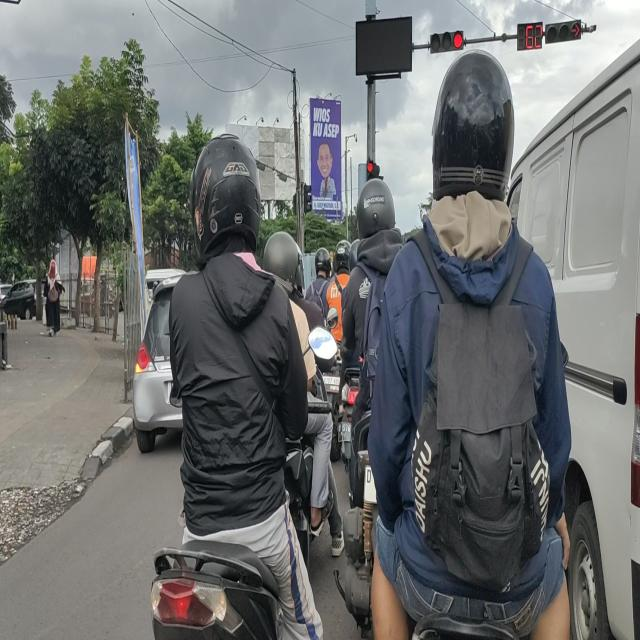helmet: (435, 50, 512, 193), (191, 140, 260, 251), (358, 187, 394, 234), (268, 238, 302, 286), (332, 238, 354, 273), (312, 249, 330, 279)
